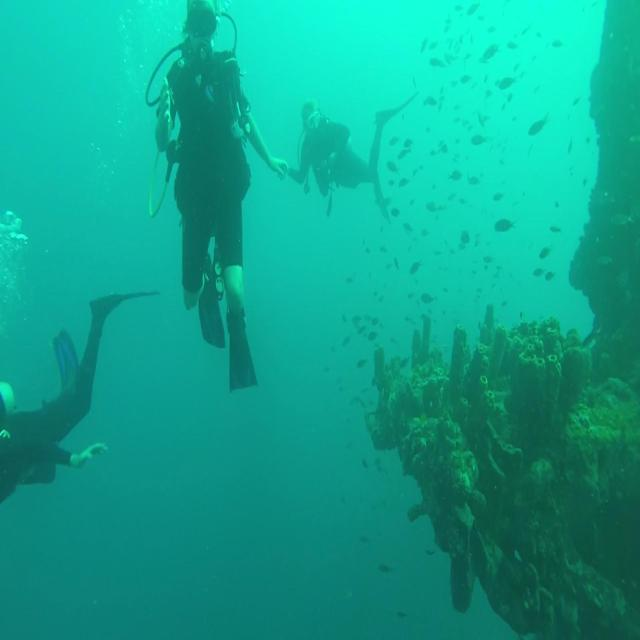human: (147, 0, 288, 392), (0, 288, 159, 503), (287, 87, 419, 226)
